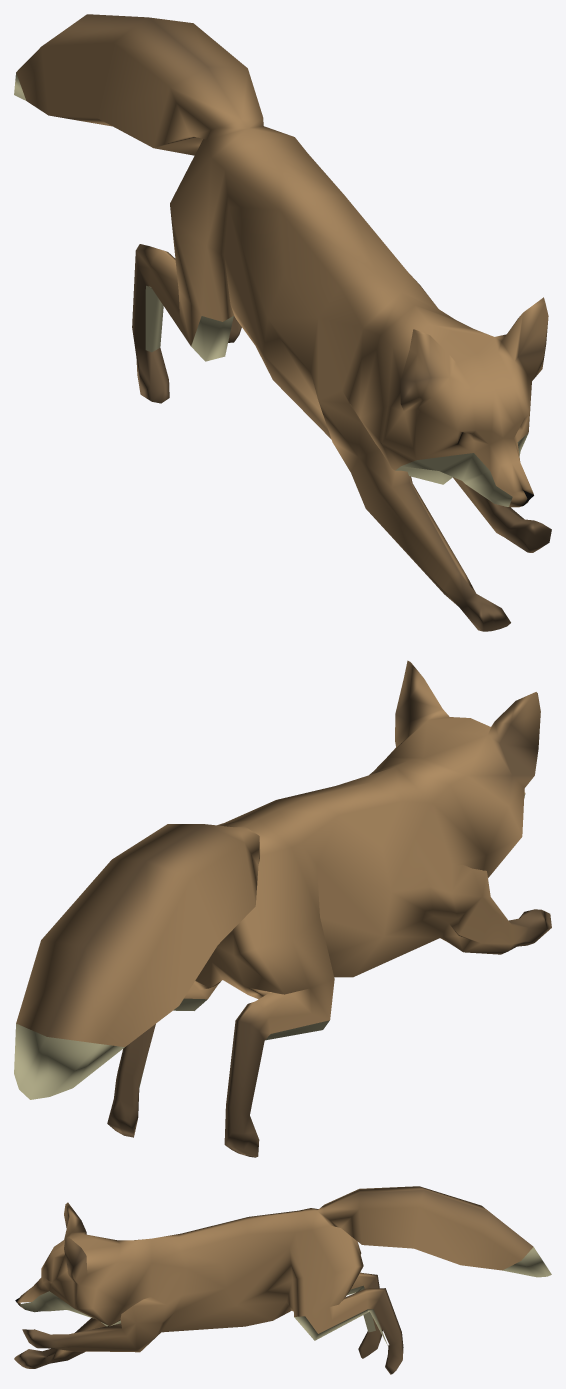
Rendered from fox.gltf.
3 views of the same model, one above another, from view 1: azimuth 30°, elevation 25°; view 2: azimuth 150°, elevation 25°; view 3: azimuth 270°, elevation 25° (orthographic). The views are drawn at different scales.
Size of the model in its own units: 19.37 by 40.56 by 107.
